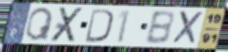1: (117, 8, 132, 44)
B: (143, 9, 176, 46)
D: (84, 7, 115, 43)
Q: (24, 6, 55, 42)
X: (48, 6, 86, 43), (170, 10, 205, 46)
